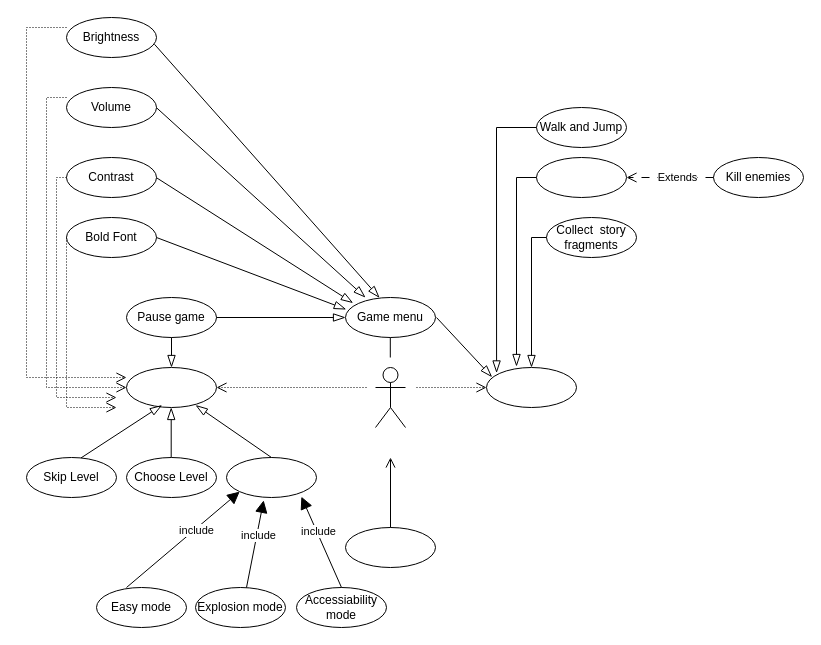
The diagram is 821 pixels wide and 645 high, and some of its shapes have lost their labels. The shapes that lost their labels are listed below. From the top down, each one's box as (x1, y1, x2, y2) in pixels, then its label:
(536, 156, 626, 198): Shoot
(126, 366, 216, 408): Option
(374, 366, 406, 428): Player
(486, 366, 576, 408): Play Game
(226, 456, 316, 498): Change mode
(344, 526, 436, 568): Instructions
